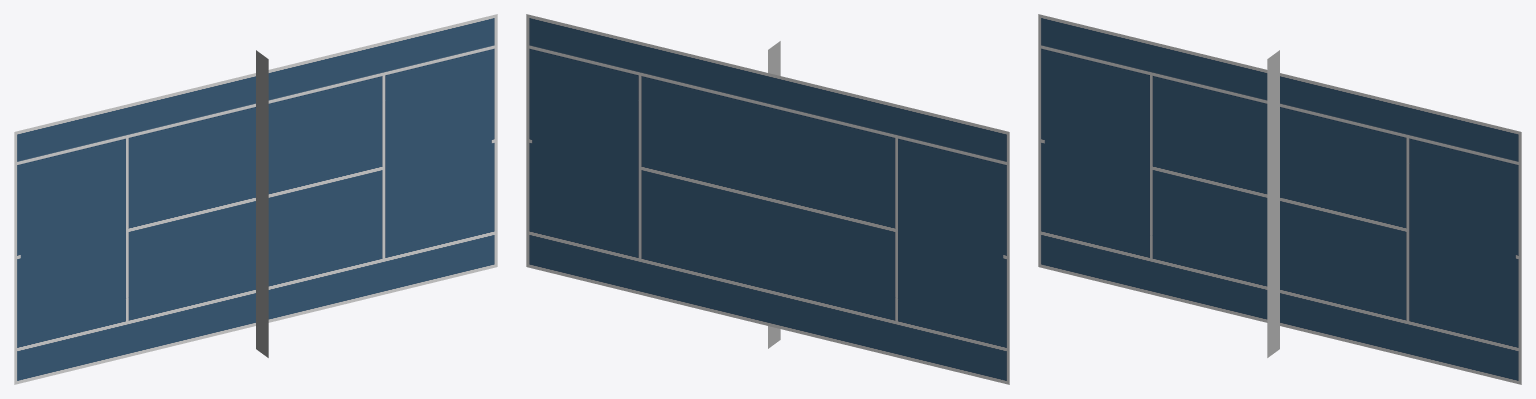
Rendered from tennis_court.obj.
The picture shows the model from 3 angles, left to right: view 1: azimuth 30°, elevation 25°; view 2: azimuth 150°, elevation 25°; view 3: azimuth 330°, elevation 25°; orthographic projection.
Parts seen in each view (by area): view 1: Plane.001, Cube_Cube.001; view 2: Plane.001, Cube_Cube.001; view 3: Plane.001, Cube_Cube.001.
Boxes of the visible parts, left/top/right/bottom form: Plane.001: left=14, top=14, right=497, bottom=384; Cube_Cube.001: left=256, top=50, right=268, bottom=357; Plane.001: left=526, top=14, right=1009, bottom=384; Cube_Cube.001: left=768, top=41, right=780, bottom=348; Plane.001: left=1038, top=14, right=1521, bottom=384; Cube_Cube.001: left=1267, top=50, right=1279, bottom=357.
Bounding box in the file's own units: 22 × 13 × 1.
